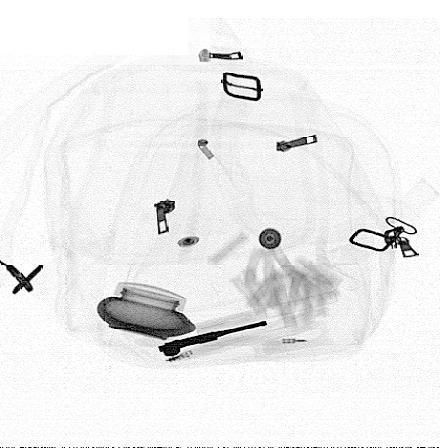Gun: (159, 315, 270, 358)
